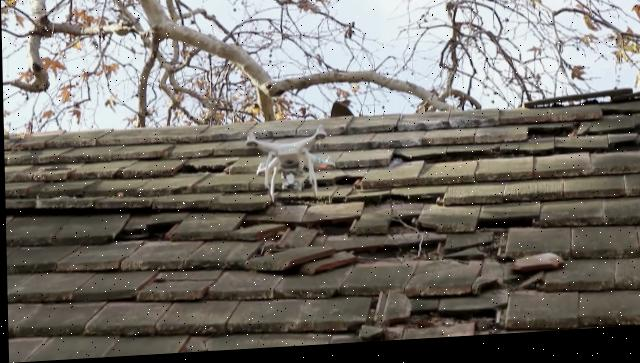drone: (242, 124, 338, 211)
